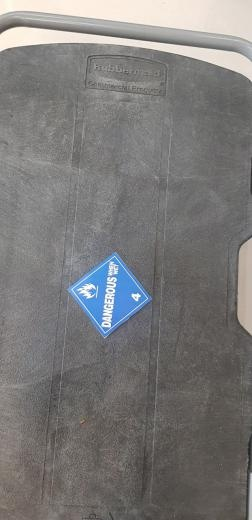Dangerous when wet: (67, 251, 152, 338)
